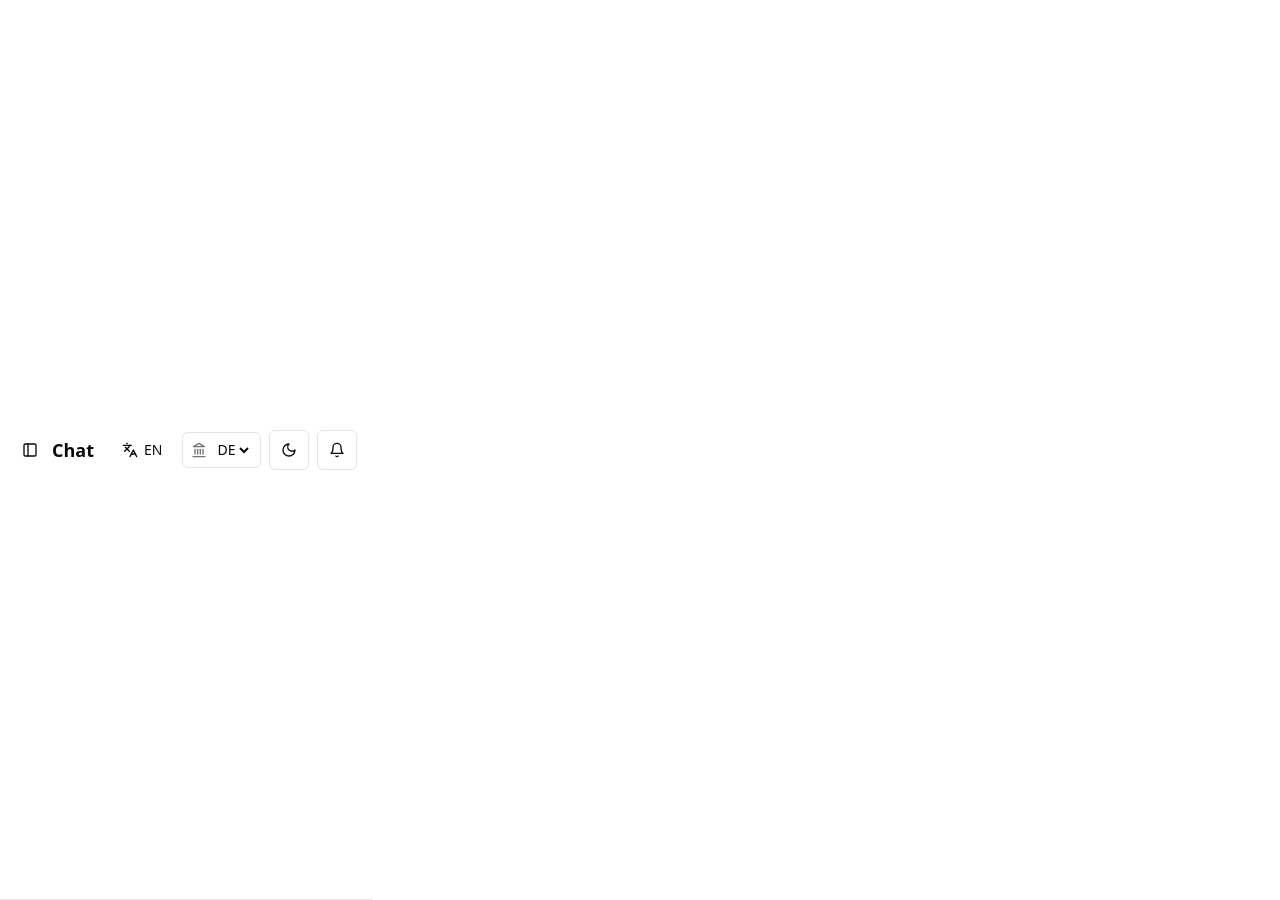
Test: PageHeader › shows an icon and a formatted date on each notification row
Click the button named "Benachrichtigungen" at (337,450), box [317,430,357,470]
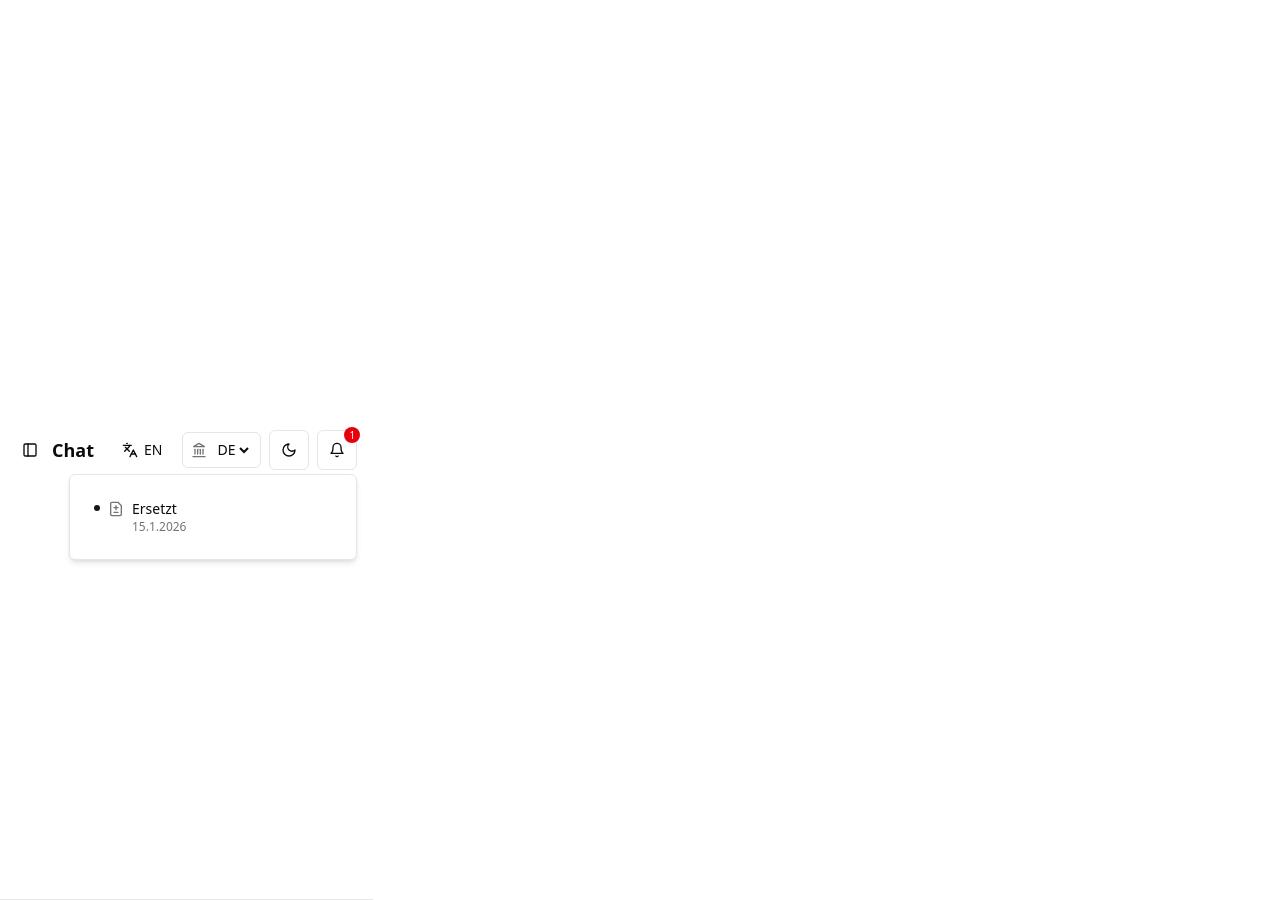
Now the text "Ersetzt" is shown, box [132,499,177,518]
